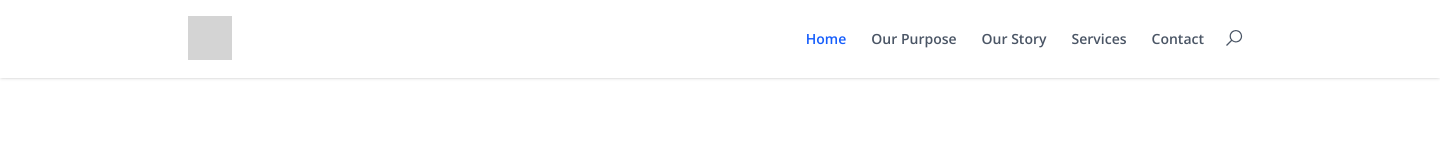
Test: Header component › should toggle search input when search button is clicked
Click the button named "Search". click: (1234, 38)
box: x1=1216 y1=20 x2=1252 y2=56
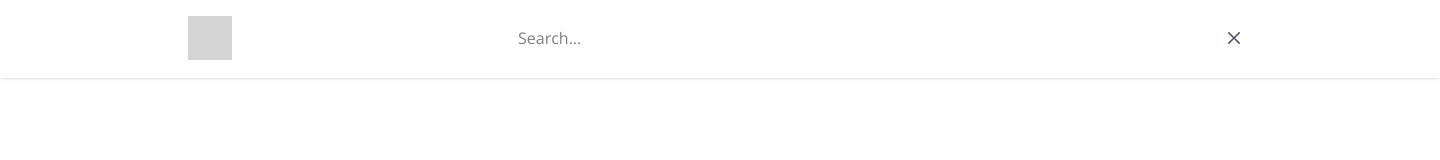
expect the field named "Search input" is shown: met, box x1=502 y1=18 x2=1208 y2=58
